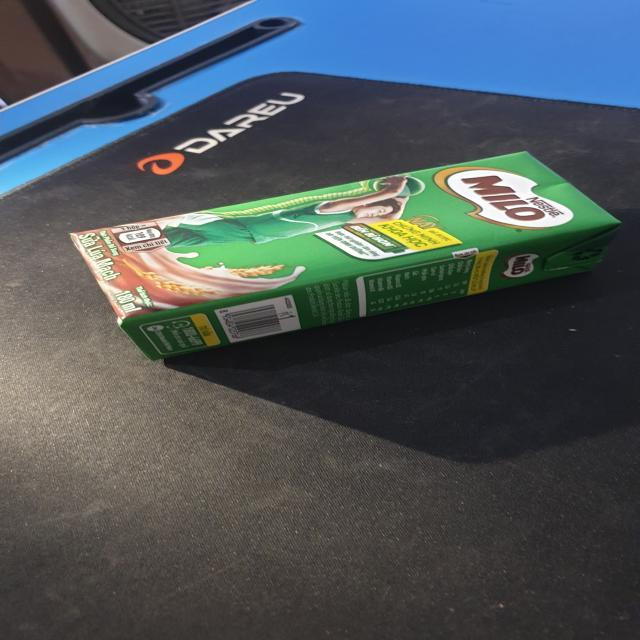Milo: (72, 152, 619, 369)
